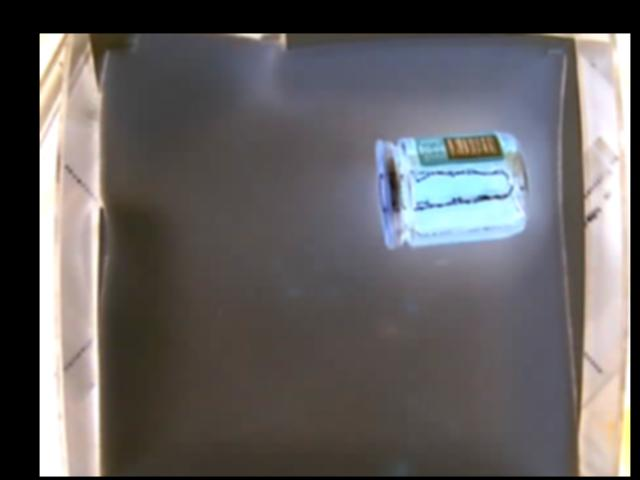Bottle: (375, 131, 528, 249)
